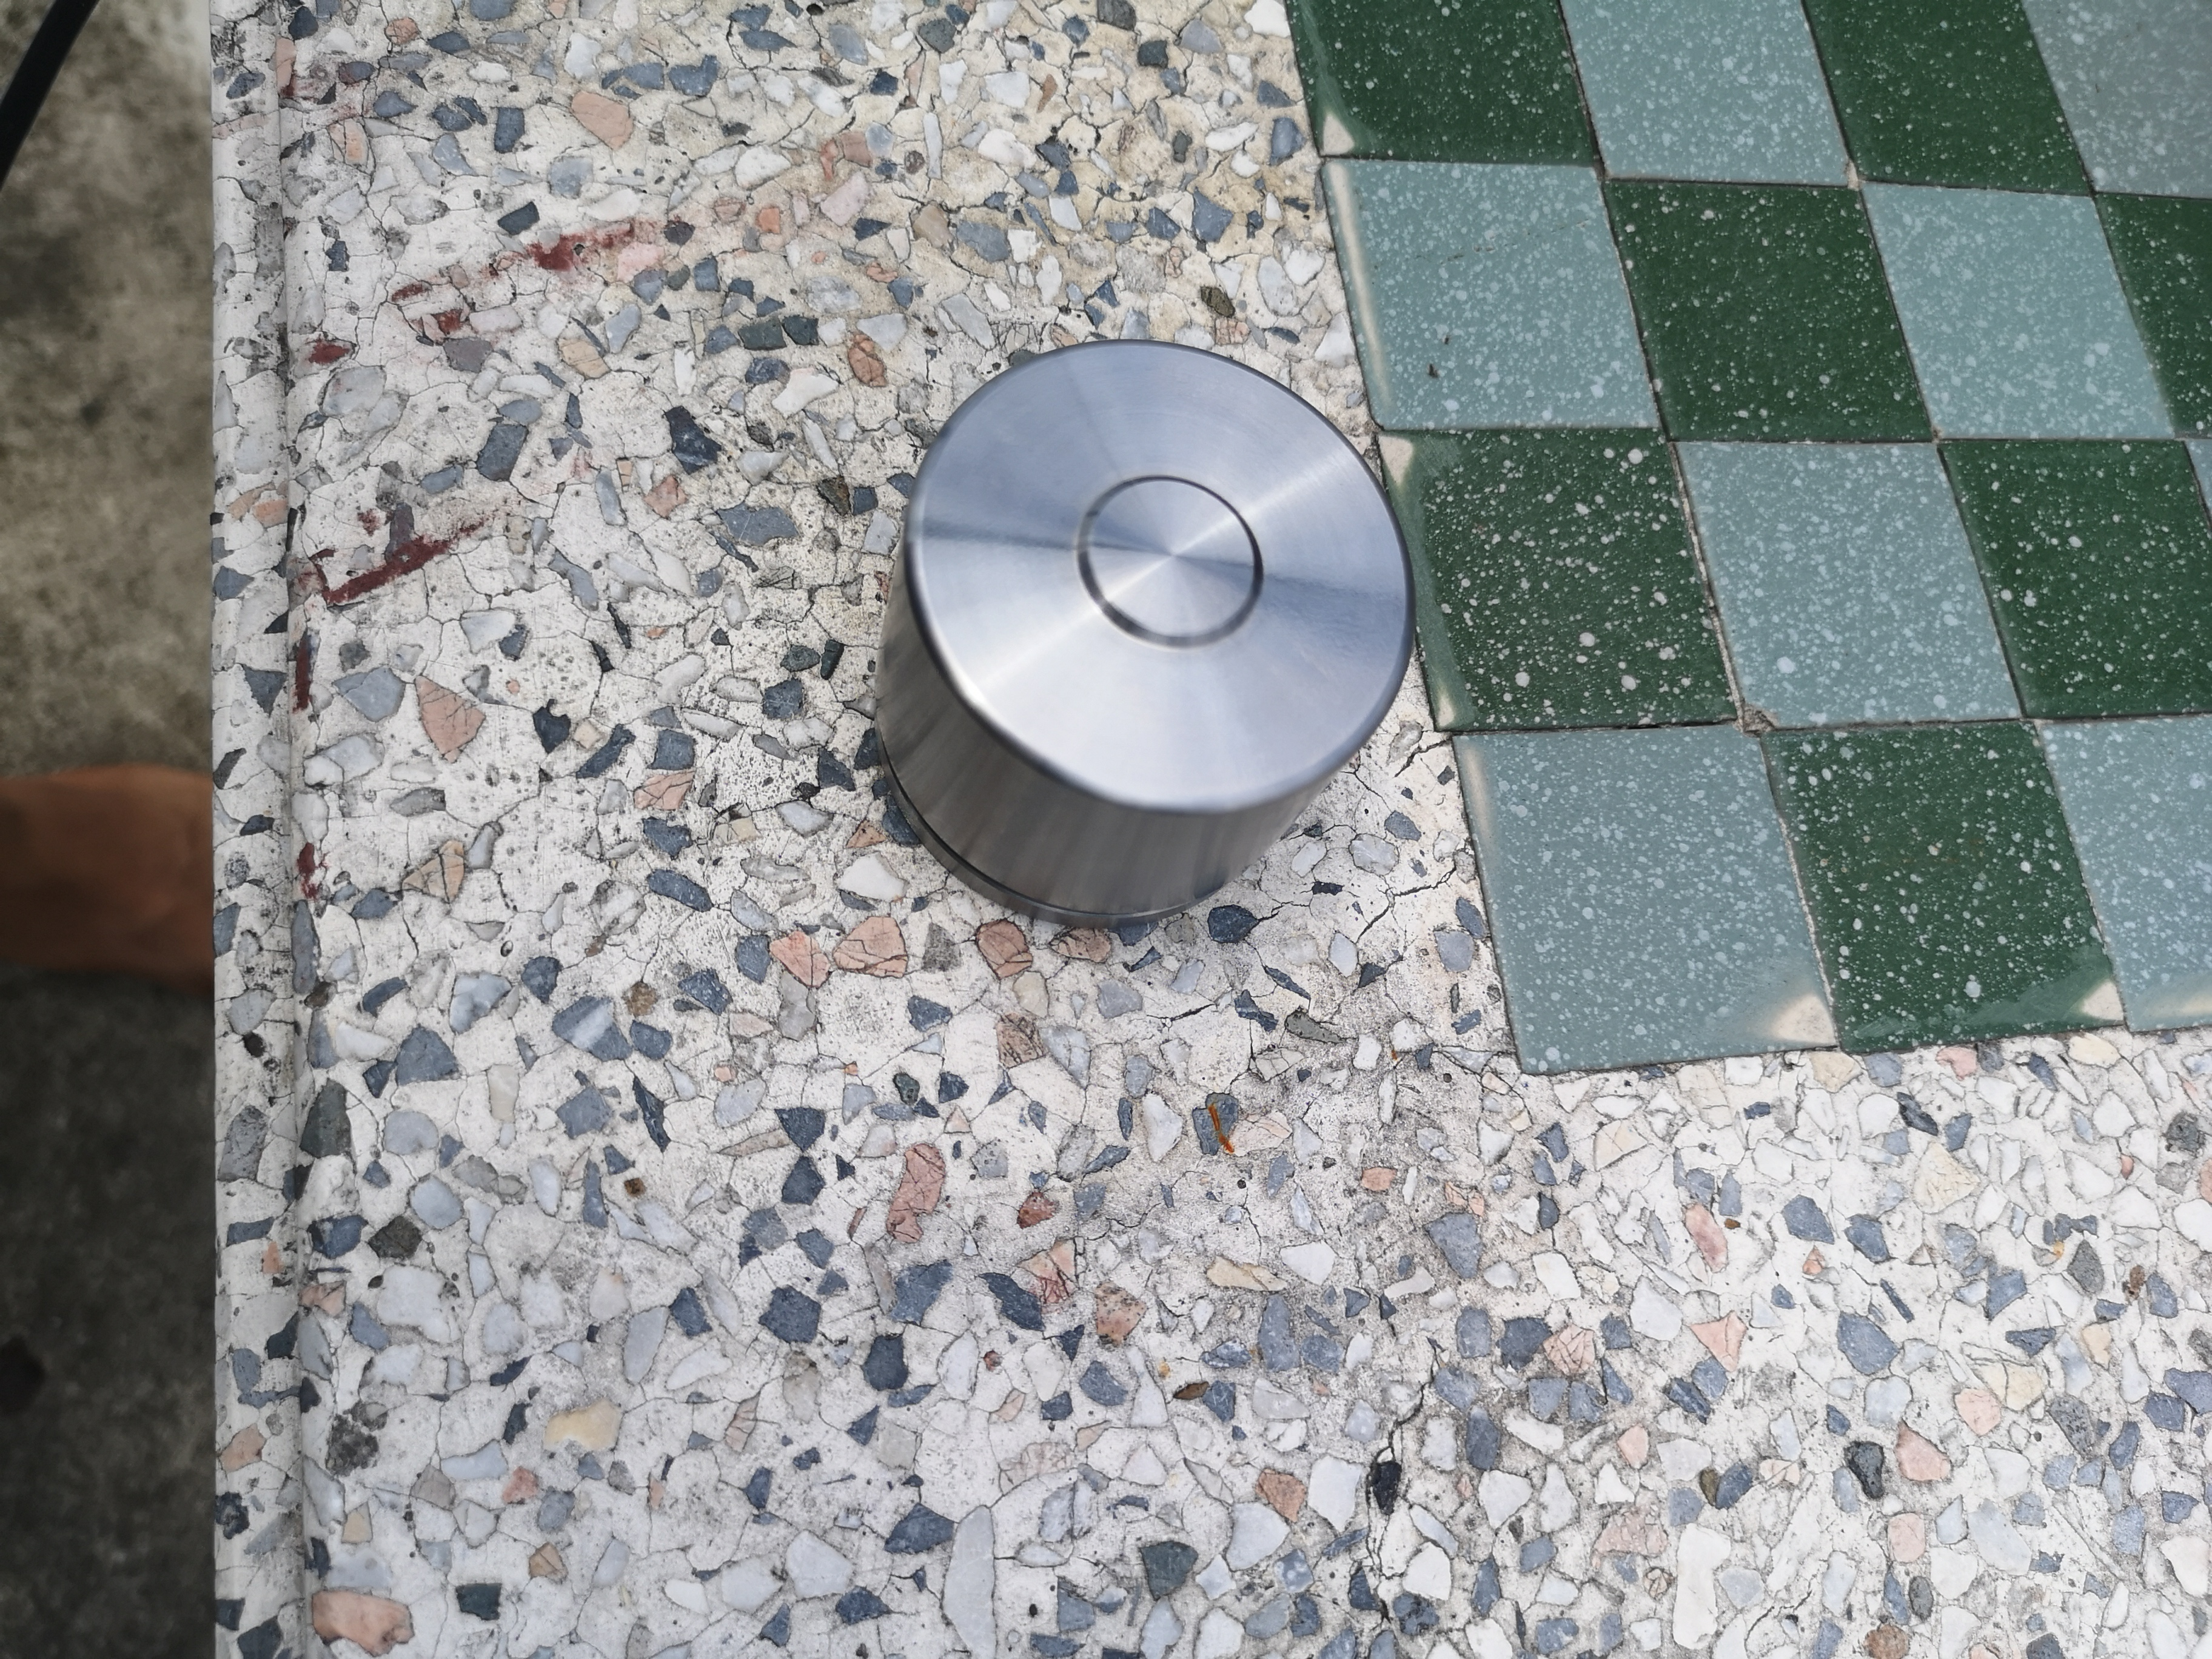ลูกสูบดิสเบรค: (859, 333, 1484, 958)
